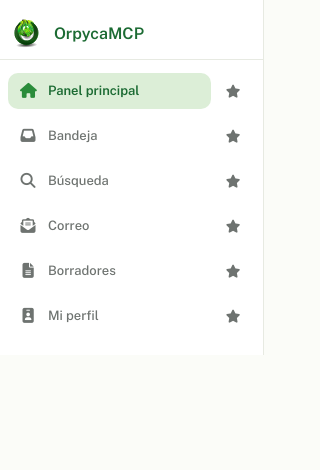
Test: SidebarNav — favoritos (§10 módulo 04) › fijar un ítem lo añade a la sección 'Favoritos' con un botón real accesible
Step 1. Click the button named "Fijar Bandeja a favoritos" → (233, 136), box [211, 114, 255, 158]
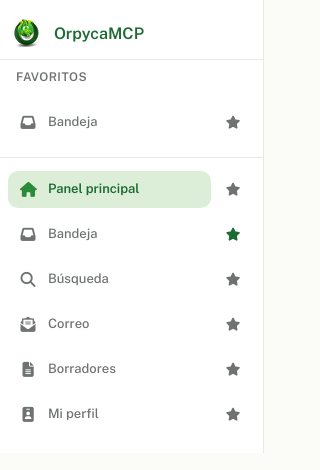
expect the text "Favoritos" is shown: met, box [16, 70, 87, 84]
expect the number of links "Bandeja" is 2: met, box [20, 114, 98, 130]; [20, 226, 98, 242]
expect the number of buttons named "Quitar Bandeja de favoritos" is 2: met, box [211, 100, 255, 144]; [211, 212, 255, 256]
